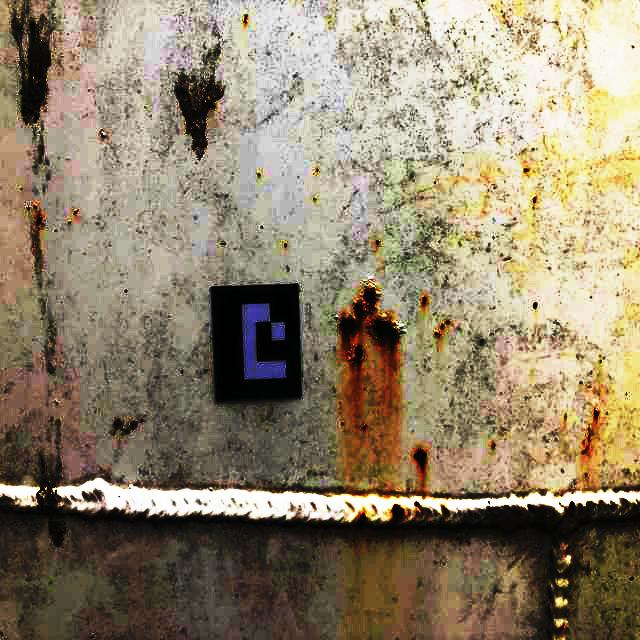Corrosion: (339, 275, 381, 337), (373, 320, 400, 342), (415, 449, 427, 470), (393, 505, 405, 526), (353, 346, 364, 364), (358, 514, 365, 528), (568, 500, 576, 511), (35, 214, 43, 224), (587, 427, 591, 444), (243, 14, 248, 24), (596, 410, 601, 420), (415, 502, 421, 508), (72, 208, 78, 214), (423, 298, 428, 305), (533, 302, 537, 310), (375, 239, 380, 245), (363, 426, 368, 432), (533, 196, 537, 203), (31, 203, 36, 208), (435, 331, 439, 337), (210, 102, 214, 108), (440, 324, 444, 329), (284, 242, 288, 247), (518, 512, 523, 516), (524, 168, 529, 172), (316, 167, 320, 172), (560, 624, 563, 630)
